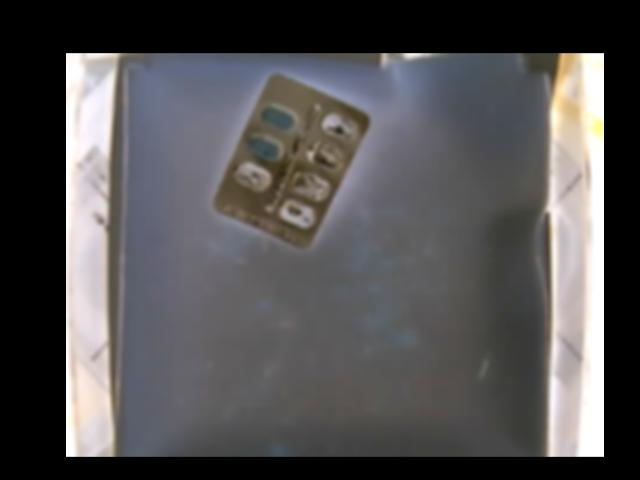Medicine: (208, 70, 371, 245)
